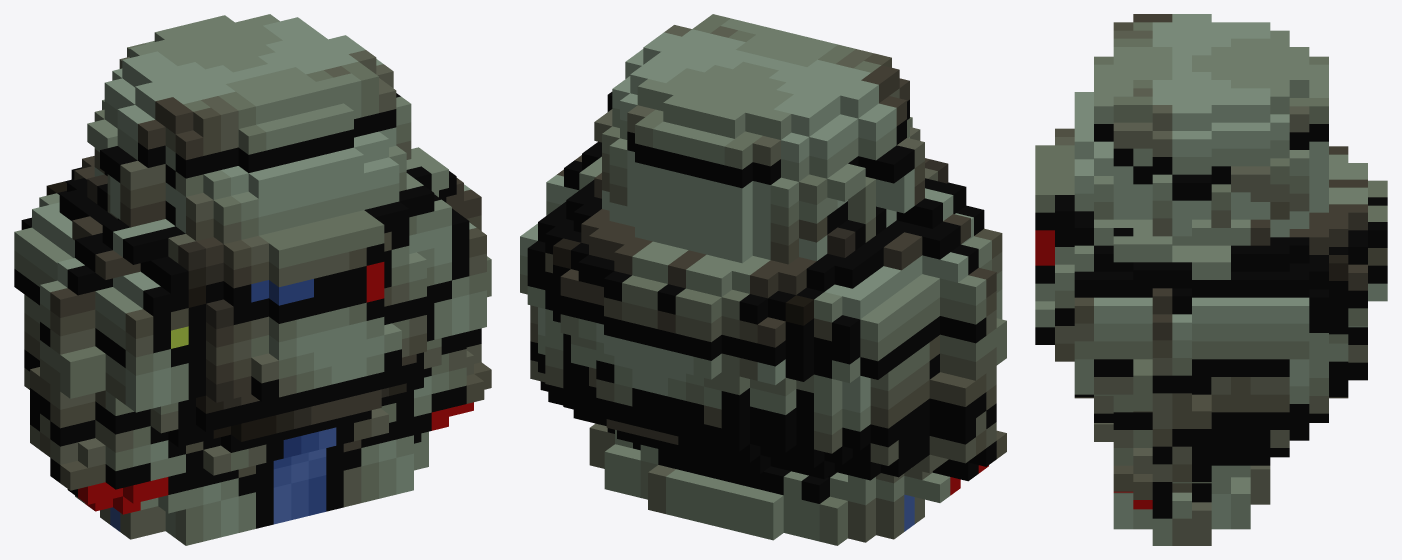
File: Icon_749_02.obj
The picture shows the model from 3 angles, left to right: view 1: azimuth 30°, elevation 25°; view 2: azimuth 150°, elevation 25°; view 3: azimuth 270°, elevation 25°; orthographic projection. The views are drawn at different scales.
Size of the model in its own units: 2.4 by 2.3 by 1.8.
1 material, 1 textured.
